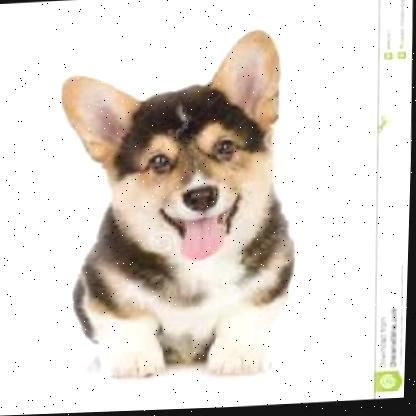dog: (50, 26, 304, 386)
